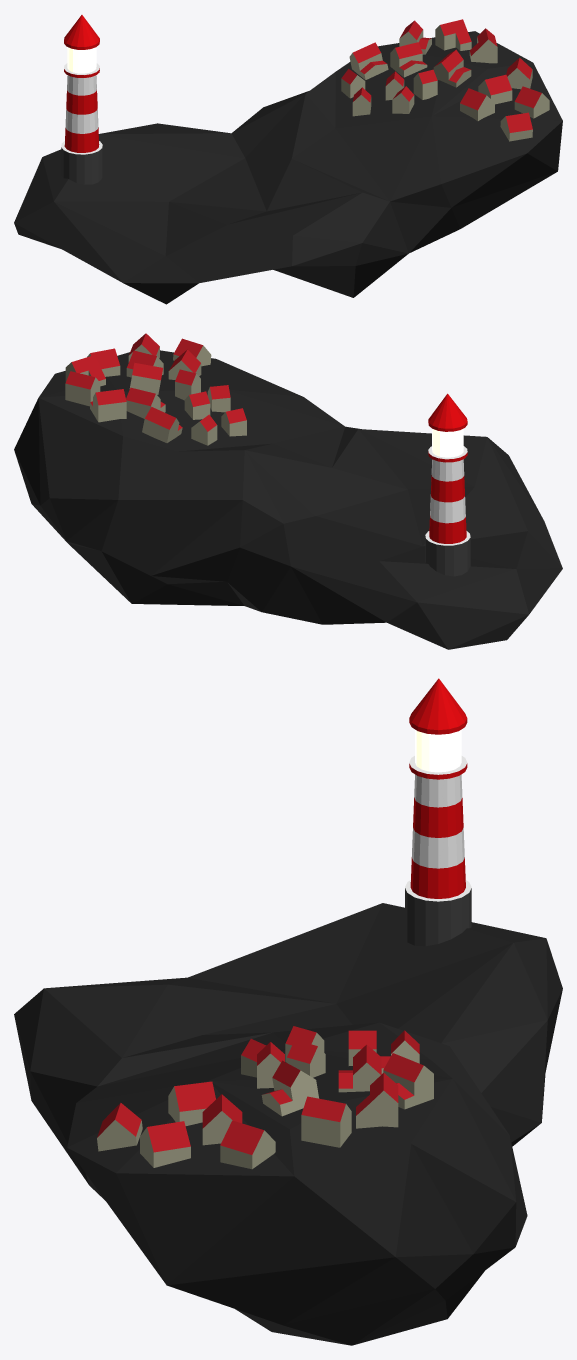
The model's file is editingObjects.glb.
3 renders of one model, top to bottom at view 1: azimuth 30°, elevation 25°; view 2: azimuth 150°, elevation 25°; view 3: azimuth 270°, elevation 25°, orthographic. The views are drawn at different scales.
Parts seen in each view (by area): view 1: Base Rocks, Lighthouse, Cube.016, Cube.005, Cube.003, Cube.007, Cube.006, Cube.011, Cube.012, Cube.009, Cube.004, Cube.002 (+6 smaller); view 2: Base Rocks, Lighthouse, Cube.013, Cube.016, Cube.003, Cube.005, Cube.007, Cube.009, Cube.001, Cube.008, Cube.014, Cube.015 (+6 smaller); view 3: Base Rocks, Lighthouse, Cube.009, Cube.002, Cube.007, Cube.011, Cube.013, Cube.003, Cube.006, Cube.012, Cube.005, Cube.004 (+2 smaller).
Part boxes in pixels (x1,y1,x2,y2): Base Rocks: [14, 31, 562, 304]; Lighthouse: [61, 15, 102, 184]; Cube.016: [349, 42, 388, 79]; Cube.005: [390, 42, 427, 77]; Cube.003: [435, 19, 471, 50]; Cube.007: [433, 49, 471, 87]; Cube.006: [460, 88, 494, 121]; Cube.011: [514, 86, 549, 118]; Cube.012: [500, 112, 532, 141]; Cube.009: [469, 28, 497, 63]; Cube.004: [478, 74, 512, 104]; Cube.002: [506, 57, 532, 89]; Base Rocks: [14, 350, 562, 649]; Lighthouse: [425, 393, 470, 576]; Cube.013: [90, 389, 126, 422]; Cube.016: [142, 406, 182, 442]; Cube.003: [65, 371, 100, 406]; Cube.005: [126, 387, 165, 418]; Cube.007: [129, 362, 162, 394]; Cube.009: [65, 355, 105, 386]; Cube.001: [175, 369, 200, 400]; Cube.008: [184, 391, 210, 419]; Cube.014: [221, 408, 246, 436]; Cube.015: [191, 414, 217, 445]; Base Rocks: [14, 903, 562, 1345]; Lighthouse: [405, 678, 471, 946]; Cube.009: [301, 1096, 351, 1147]; Cube.002: [220, 1120, 275, 1169]; Cube.007: [261, 1060, 318, 1116]; Cube.011: [140, 1121, 190, 1167]; Cube.013: [383, 1053, 433, 1109]; Cube.003: [356, 1072, 398, 1128]; Cube.006: [168, 1081, 215, 1125]; Cube.012: [97, 1103, 142, 1151]; Cube.005: [338, 1044, 381, 1092]; Cube.004: [202, 1094, 242, 1145].
Size of what is drawn, in the model's own units: 18.9 by 9.77 by 11.65.
